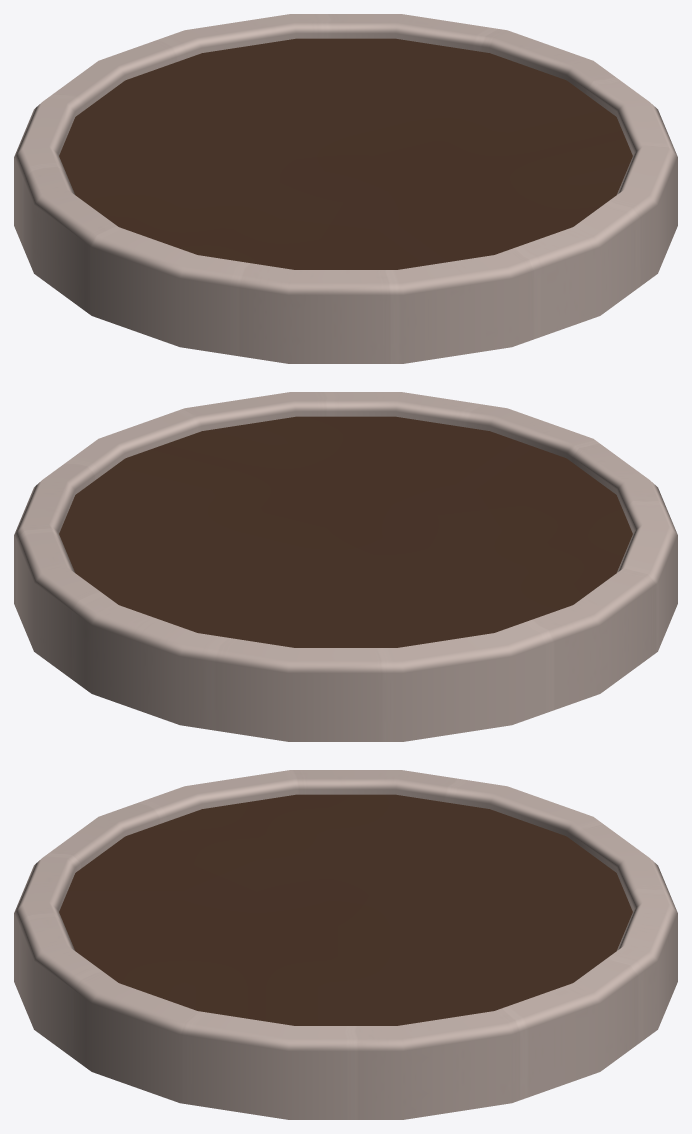
The model's file is GardenBed_Round_3m.fbx.
3 renders of one model, top to bottom at view 1: azimuth 30°, elevation 25°; view 2: azimuth 150°, elevation 25°; view 3: azimuth 270°, elevation 25°, orthographic.
Visible parts, largest first — view 1: GardenBed_Round_3m; view 2: GardenBed_Round_3m; view 3: GardenBed_Round_3m.
Boxes of the visible parts, x1=… form: GardenBed_Round_3m: x1=14, y1=14, x2=677, y2=363; GardenBed_Round_3m: x1=14, y1=392, x2=677, y2=741; GardenBed_Round_3m: x1=14, y1=770, x2=677, y2=1119.
Bounding box in the file's own units: 296 × 39.62 × 300.
